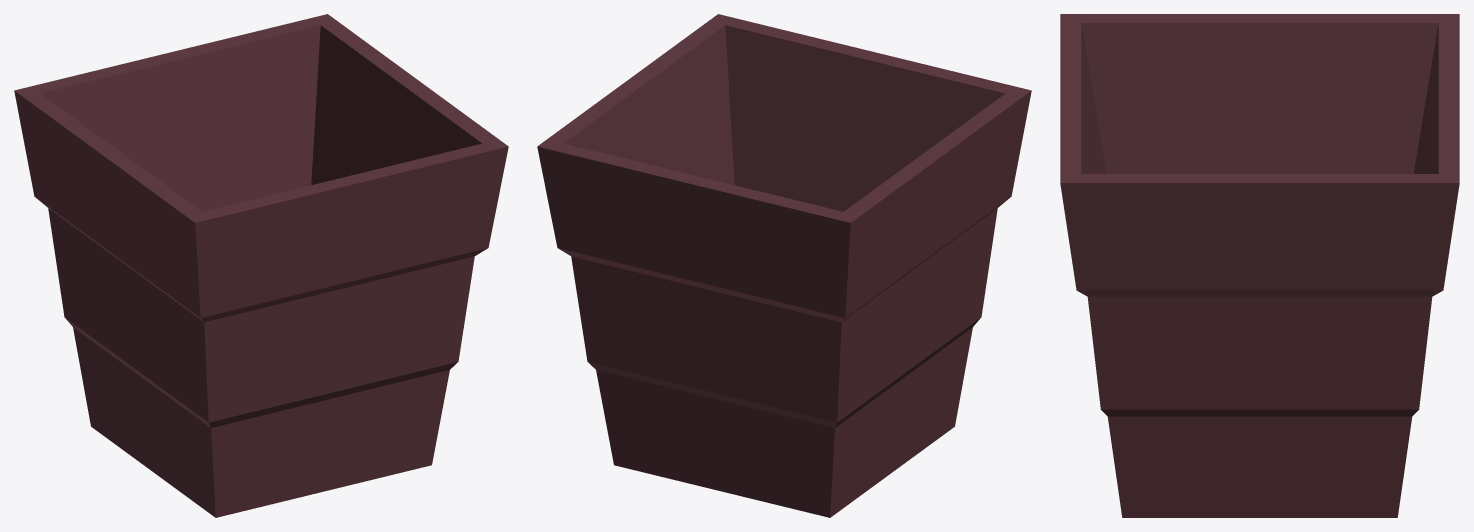
The model's file is furniture-pot-medium-rectangle-empty.glb.
3 renders of one model, left to right at view 1: azimuth 30°, elevation 25°; view 2: azimuth 150°, elevation 25°; view 3: azimuth 270°, elevation 25°, orthographic. The views are drawn at different scales.
Parts seen in each view (by area): view 1: pot-medium-rectangle-empty; view 2: pot-medium-rectangle-empty; view 3: pot-medium-rectangle-empty.
Part boxes in pixels (bbox=[...]): pot-medium-rectangle-empty: bbox=[14, 14, 508, 517]; pot-medium-rectangle-empty: bbox=[537, 14, 1031, 517]; pot-medium-rectangle-empty: bbox=[1060, 14, 1459, 517].
Size of the model in its own units: 0.27 by 0.2694 by 0.27.
